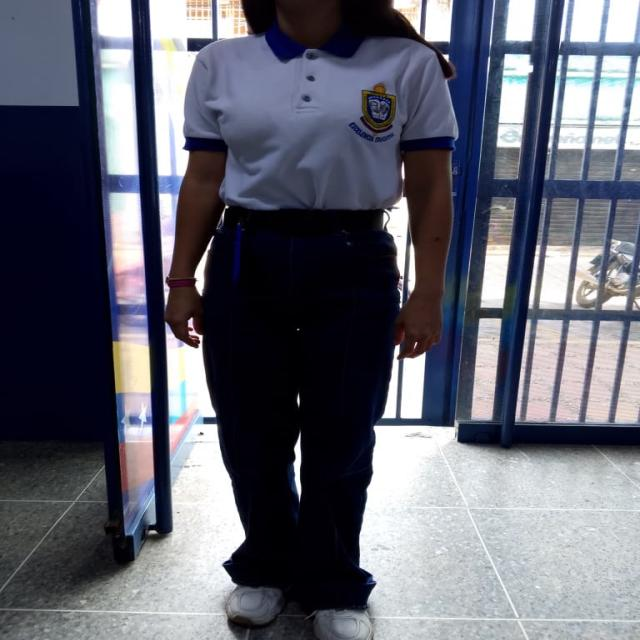pantalon_oscuro: (198, 220, 400, 609)
uniforme_superior: (182, 32, 459, 211)
